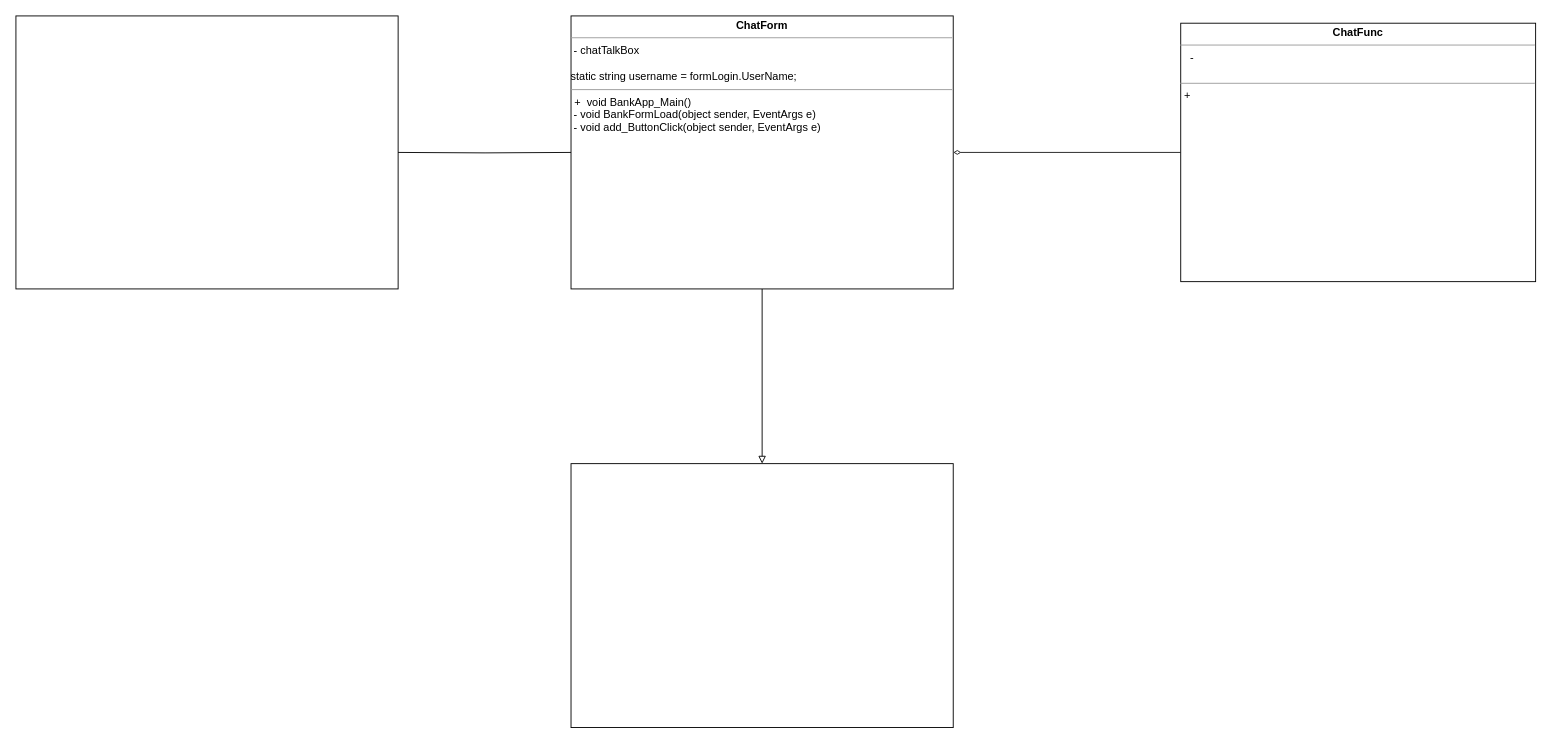
Some shapes in this 1552 by 743 pixel diagram are drawn without their labels. Each missing label, with the centre of its shape:
Form: the point at 761,595
LoginForm + UserName: the point at 206,152
